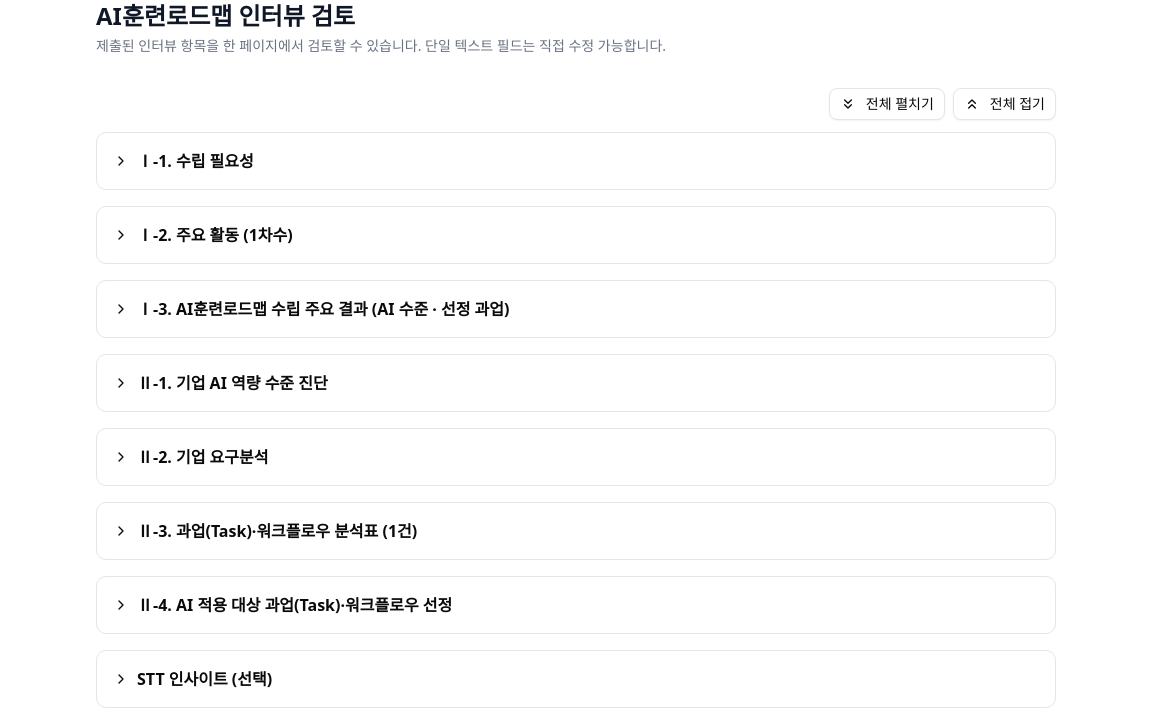
Test: InterviewReviewClient › 로드맵 트랙 › sttInsights 가 채워졌으면 "STT 인사이트 (선택)" 섹션과 6 카테고리 카드가 노출된다
# 섹션 펼친 후 카테고리 카드 확인
Click the button "STT 인사이트 (선택)".
click(205, 679)  # box [113,667,1039,691]
(page scrolled)
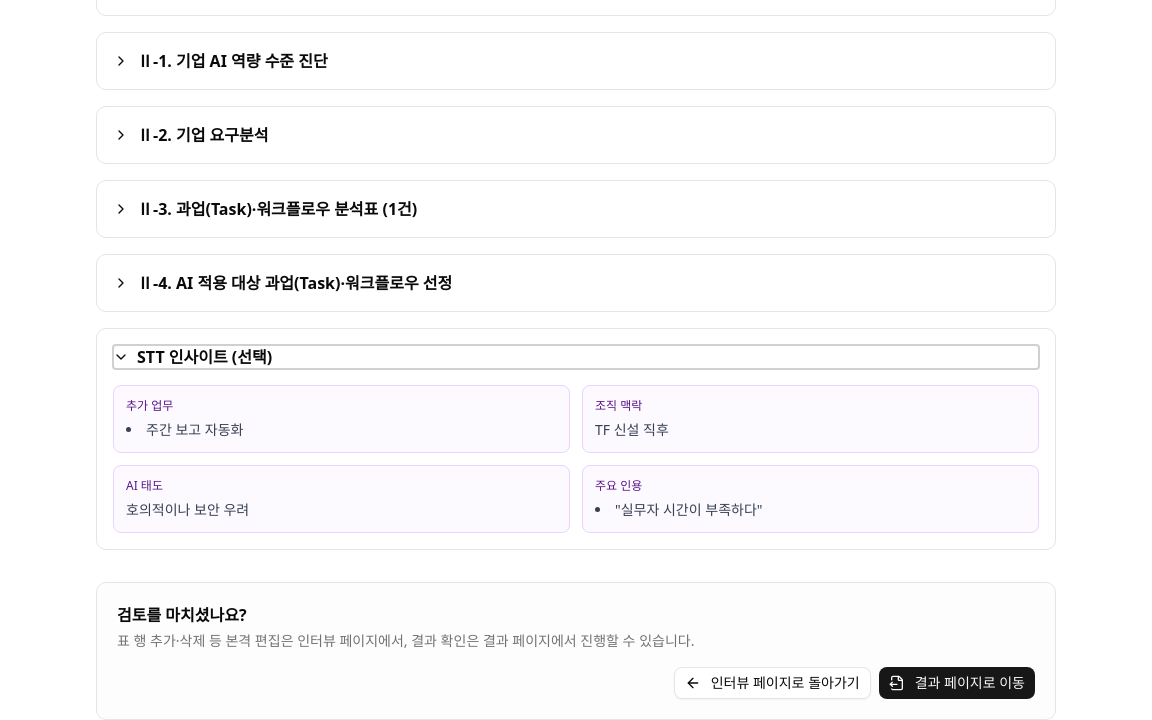
Result: the text "추가 업무" is shown at [126,397,173,414]
Result: the list item "주간 보고 자동화" is shown at [146,420,244,439]
Result: the text "조직 맥락" is shown at [595,397,642,414]
